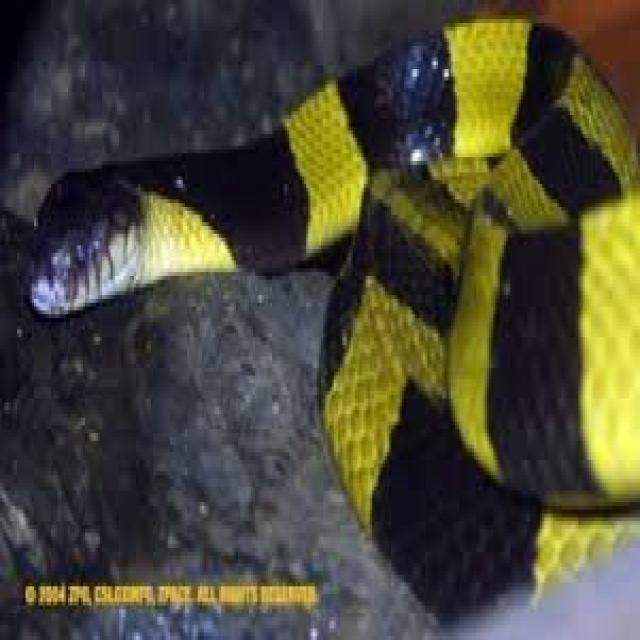Venomous: (26, 173, 204, 314)
